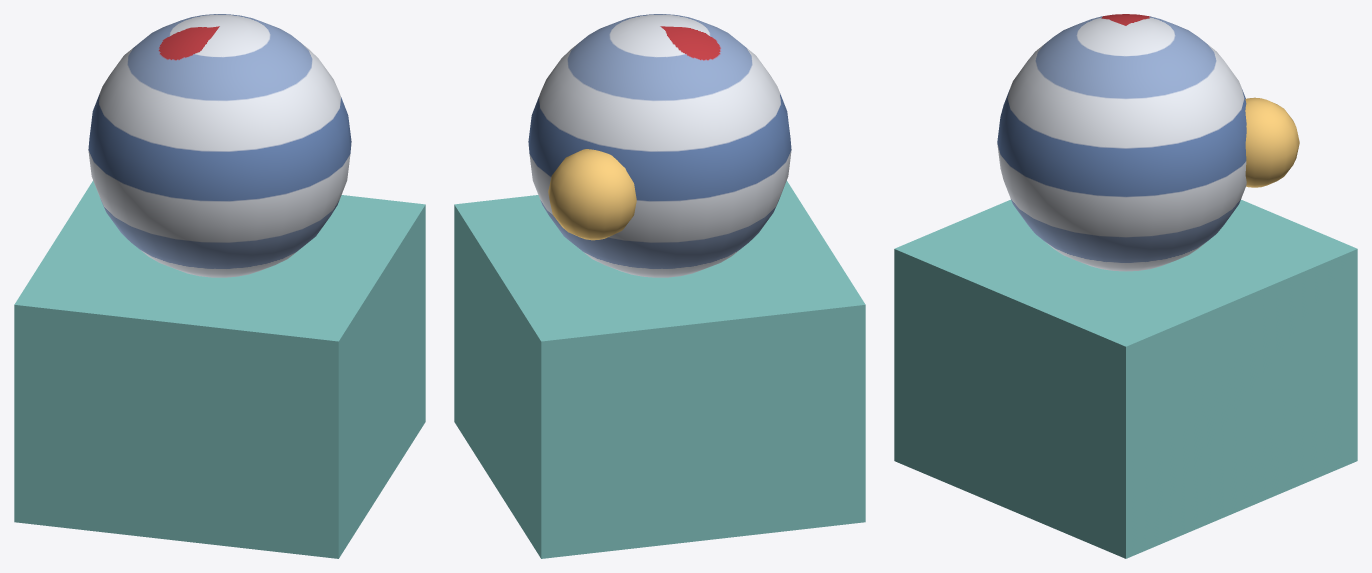
The picture shows the model from 3 angles, left to right: view 1: azimuth 30°, elevation 25°; view 2: azimuth 150°, elevation 25°; view 3: azimuth 270°, elevation 25°; orthographic projection. The views are drawn at different scales.
Visible parts, largest first — view 1: Base, Head; view 2: Base, Head, Nose; view 3: Base, Head, Nose.
Part boxes in pixels (box(x1,y1,x2,y2)): Base: box(14, 180, 425, 558); Head: box(88, 14, 351, 277); Base: box(454, 180, 865, 558); Head: box(528, 14, 791, 277); Nose: box(548, 149, 636, 240); Base: box(894, 199, 1357, 558); Head: box(997, 14, 1246, 271); Nose: box(1245, 97, 1299, 187).
Bounding box in the file's own units: 1.98 × 2.05 × 1.98.
Materials: 3 (1 with a texture image).
